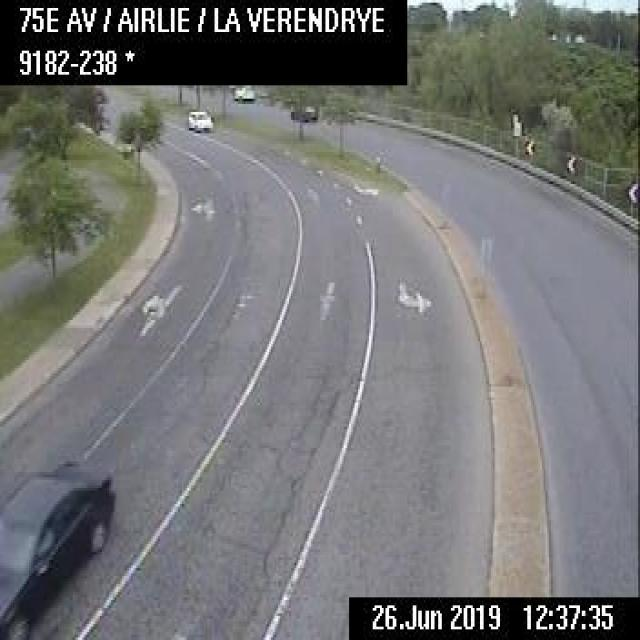vehicle: (0, 458, 116, 637), (185, 107, 213, 133), (287, 101, 320, 123), (229, 83, 256, 101)
